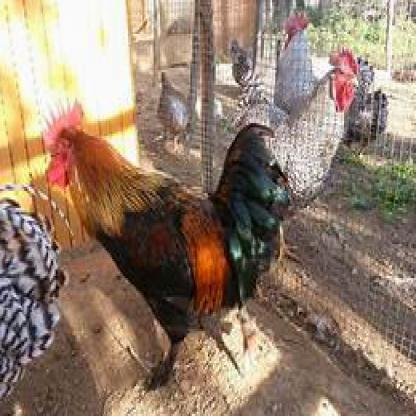chicken: (41, 96, 289, 388), (232, 40, 360, 263), (277, 8, 389, 148)
